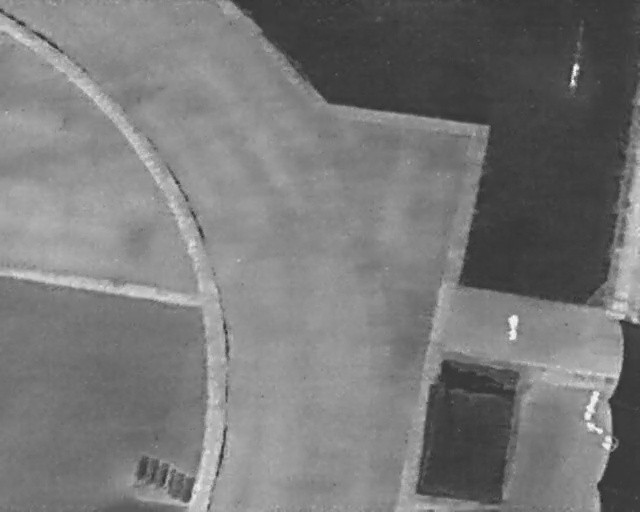Person: (580, 386, 602, 423), (505, 310, 520, 341), (569, 60, 580, 85)
